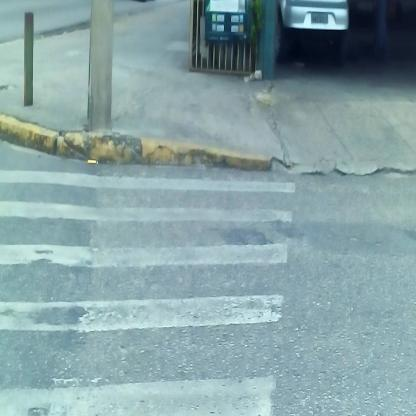crosswalk: (1, 179, 305, 416)
sidewalk: (4, 49, 416, 193)
